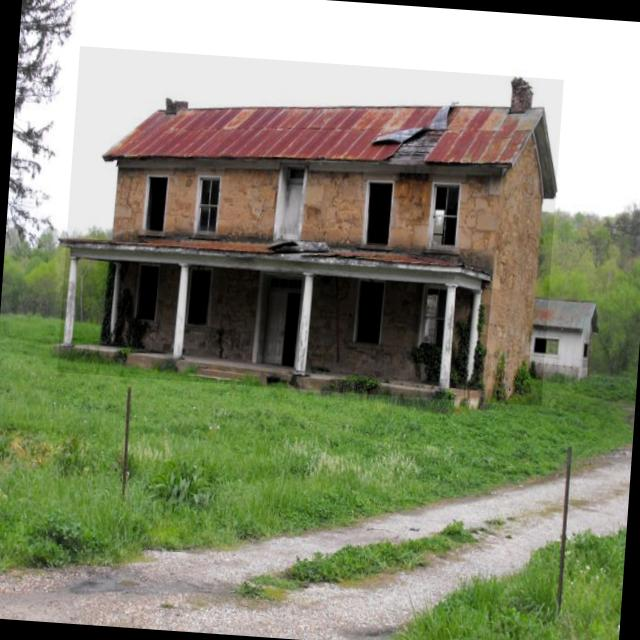House: (56, 46, 564, 406)
